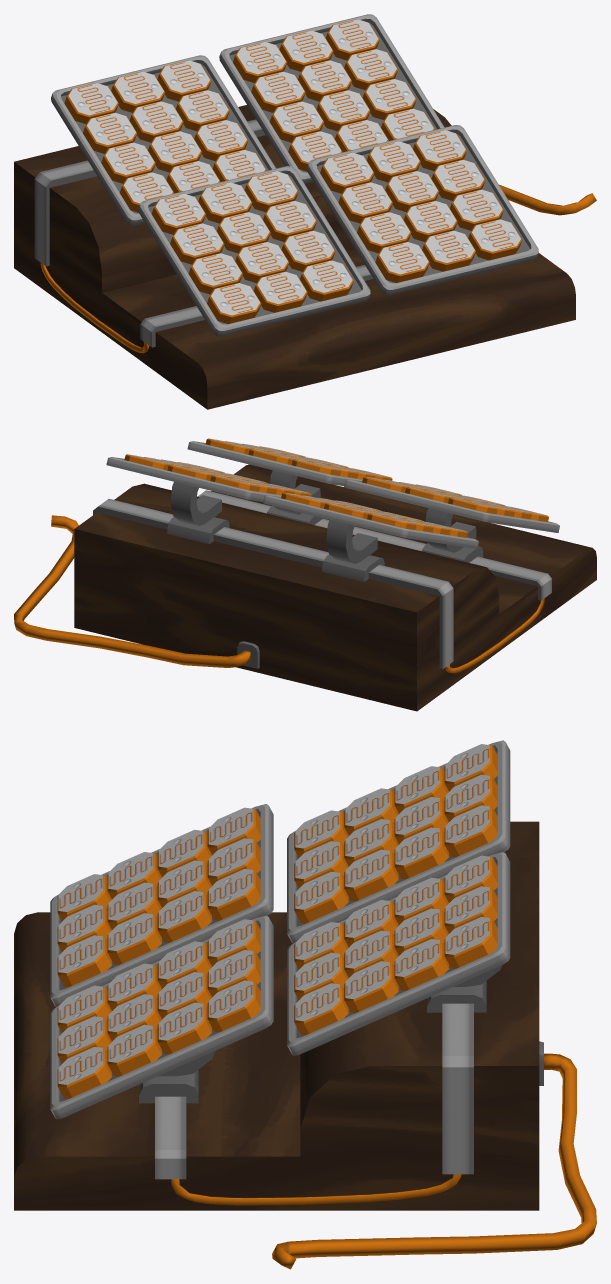
Rendered from PhotoCells.fbx.
3 views of the same model, one above another, from view 1: azimuth 30°, elevation 25°; view 2: azimuth 150°, elevation 25°; view 3: azimuth 270°, elevation 25° (orthographic). The views are drawn at different scales.
Visible parts, largest first — view 1: PhotoCell, PhotoCell_Wire; view 2: PhotoCell, PhotoCell_Wire; view 3: PhotoCell, PhotoCell_Wire.
Boxes of the visible parts, bbox=[...] form: PhotoCell: bbox=[14, 14, 575, 409]; PhotoCell_Wire: bbox=[499, 184, 596, 215]; PhotoCell: bbox=[74, 438, 596, 711]; PhotoCell_Wire: bbox=[14, 515, 250, 667]; PhotoCell: bbox=[14, 740, 543, 1210]; PhotoCell_Wire: bbox=[272, 1053, 596, 1269].
Size of the model in its own units: 5.05 by 1.81 by 3.82.
